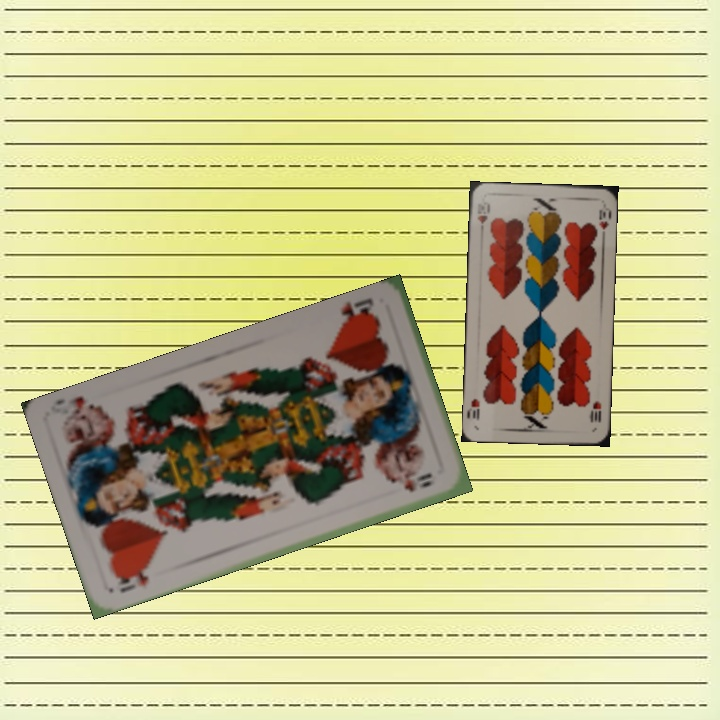H10: (473, 199, 492, 226), (586, 397, 604, 425)
HO: (335, 294, 380, 331), (112, 568, 151, 595)
